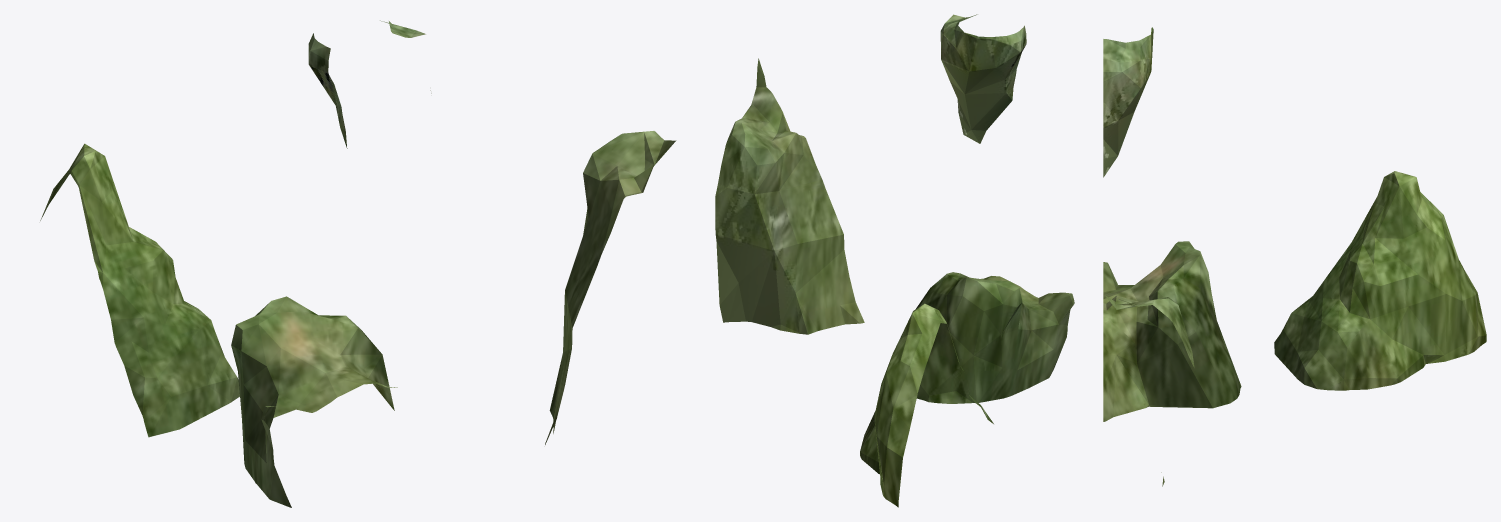
3 renders of one model, left to right at view 1: azimuth 30°, elevation 25°; view 2: azimuth 150°, elevation 25°; view 3: azimuth 270°, elevation 25°, orthographic. The views are drawn at different scales.
Bounding box in the file's own units: 2.95 × 2.95 × 2.88.
Materials: 2 (2 with a texture image).
